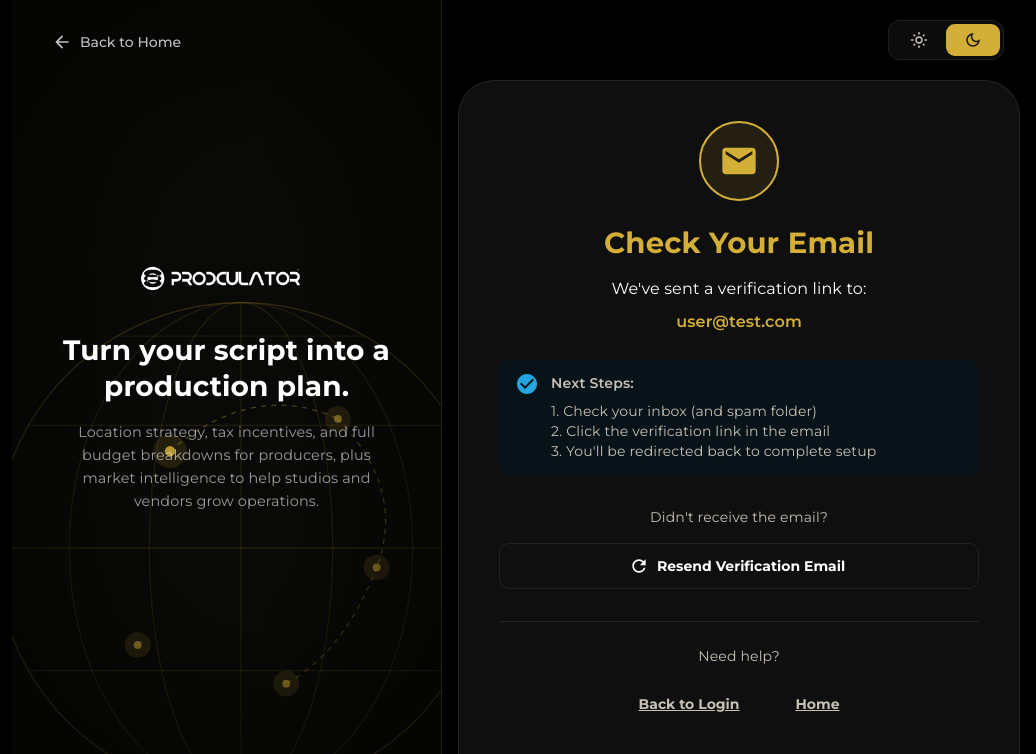
Test: VerifyEmail — countdown & resend › shows success alert after a successful resend
Click the button "Resend Verification Email": (739, 566) left=499, top=543, right=979, bottom=589
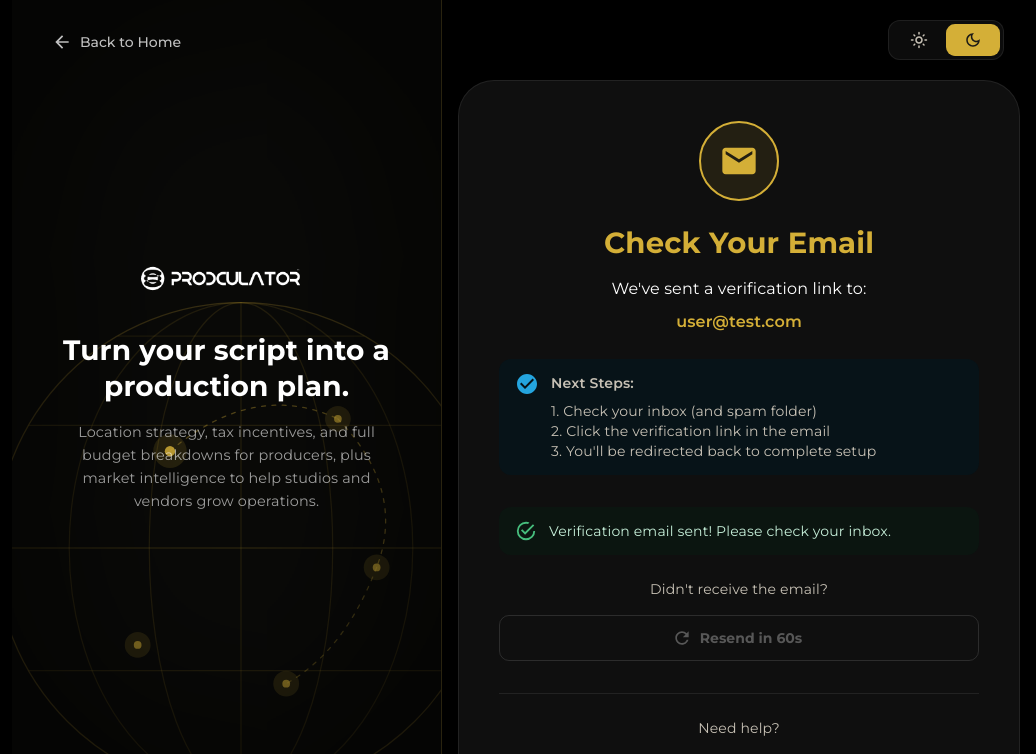
Now the text "Verification email sent! Please check your inbox." is shown, box left=549, top=522, right=891, bottom=540
